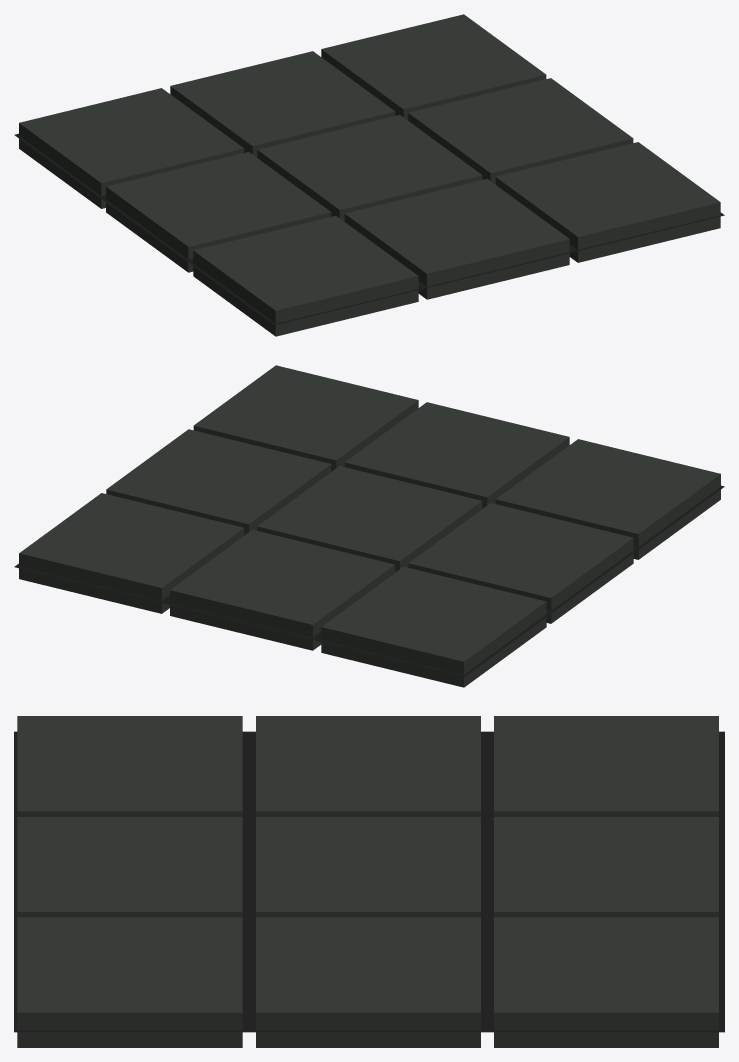
File: Tile_nine_stone.fbx
3 views of the same model, one above another, from view 1: azimuth 30°, elevation 25°; view 2: azimuth 150°, elevation 25°; view 3: azimuth 270°, elevation 25° (orthographic). The views are drawn at different scales.
Parts seen in each view (by area): view 1: Tile_nine_stone.001; view 2: Tile_nine_stone.001; view 3: Tile_nine_stone.001.
Boxes of the visible parts, x1=… form: Tile_nine_stone.001: x1=14, y1=14, x2=724, y2=336; Tile_nine_stone.001: x1=14, y1=365, x2=724, y2=687; Tile_nine_stone.001: x1=14, y1=716, x2=724, y2=1047.
Size of the model in its own units: 600 by 32.89 by 600.
